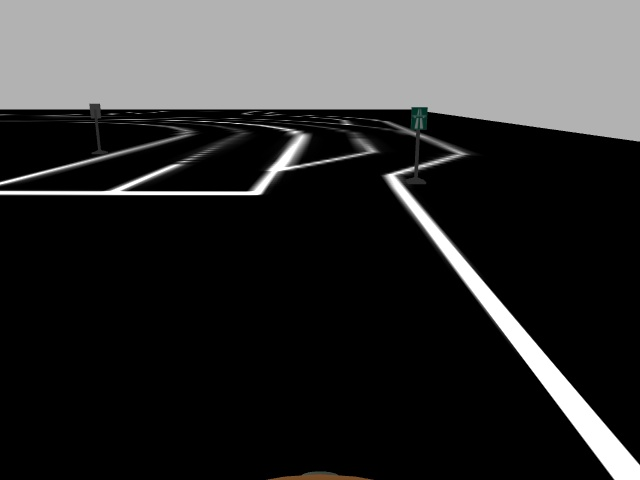enter_highway: (409, 106, 430, 131)
